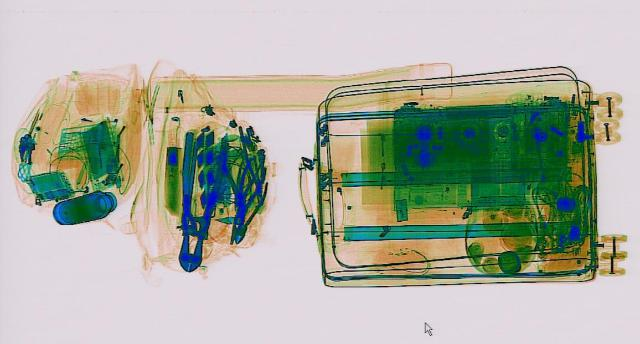Pliers: (169, 188, 217, 271), (222, 178, 270, 242)
